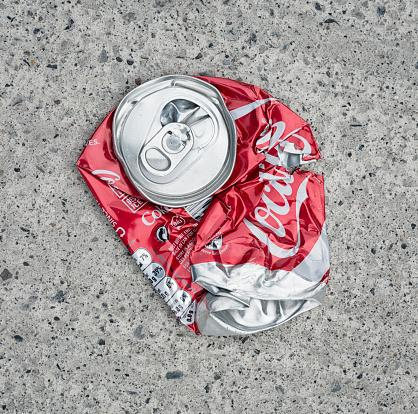metal: (74, 68, 335, 340)
